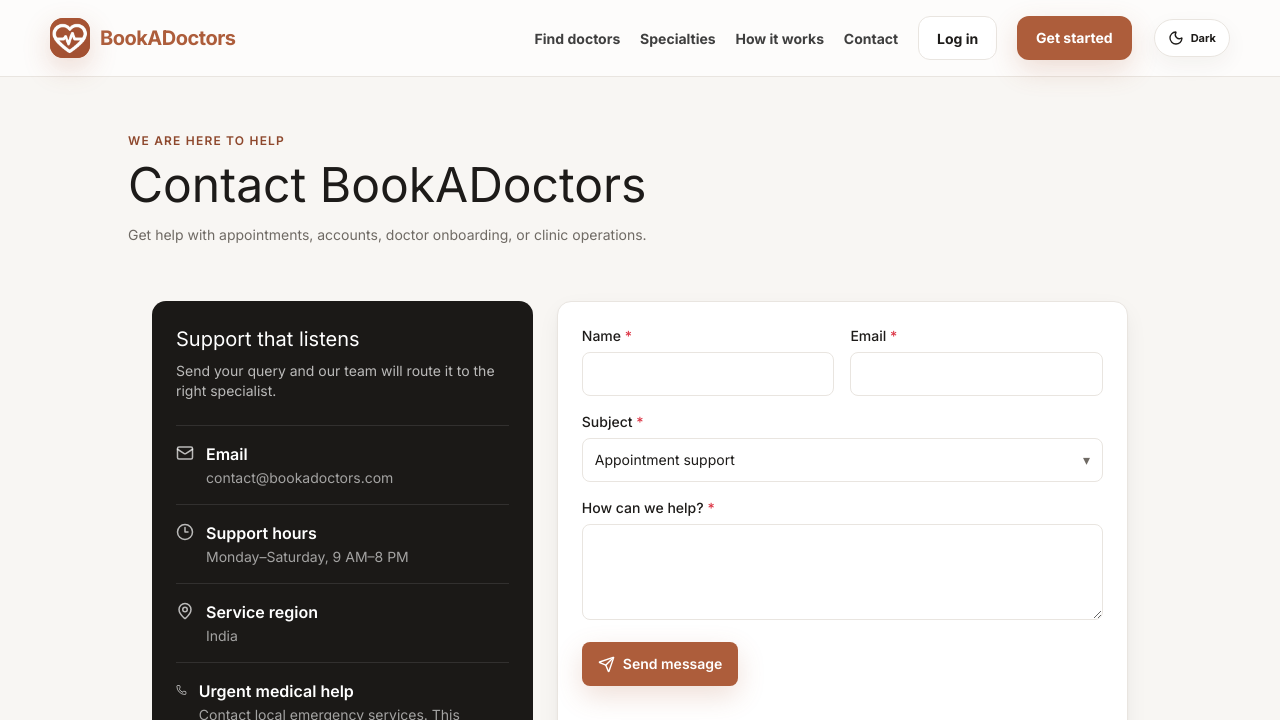
Test: PublicContent › shows the real error message when the contact form submission fails
Type "Rahul V" into the field labelled "Name *" at (708, 374), box [582, 352, 834, 396]
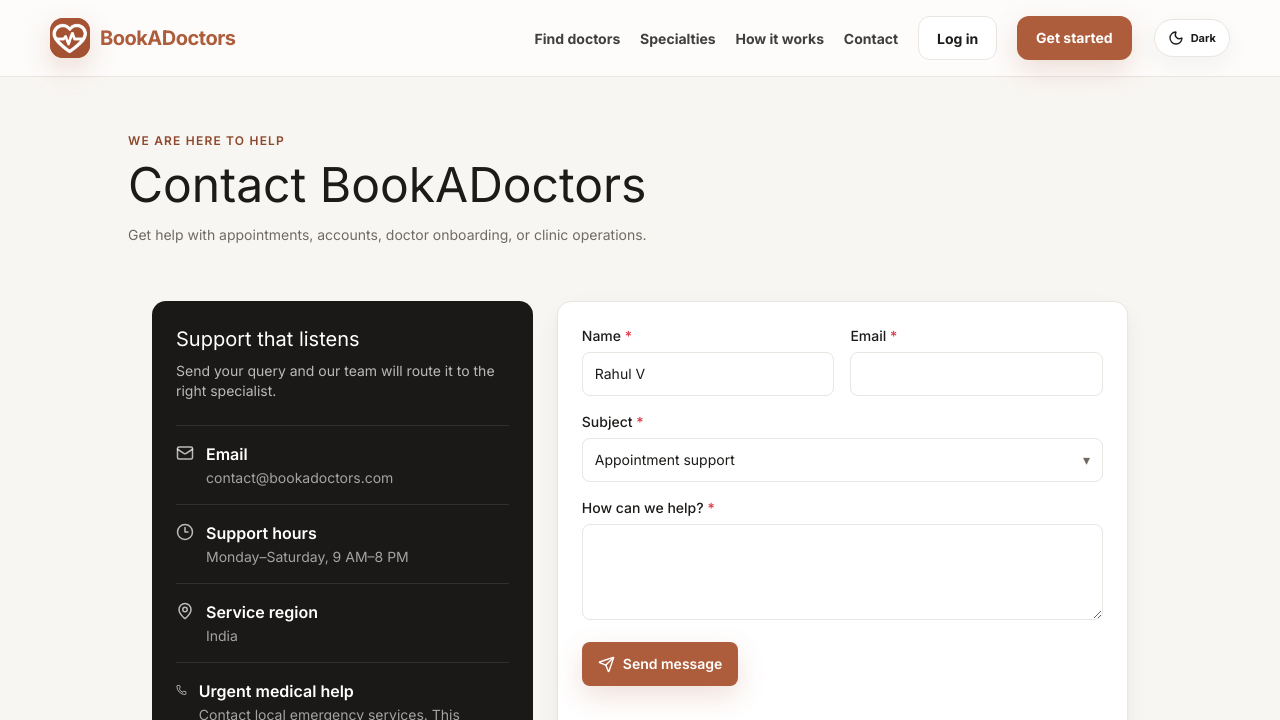
Type "rahul@example.com" into the field labelled "Email *" at (977, 374), box [850, 352, 1103, 396]
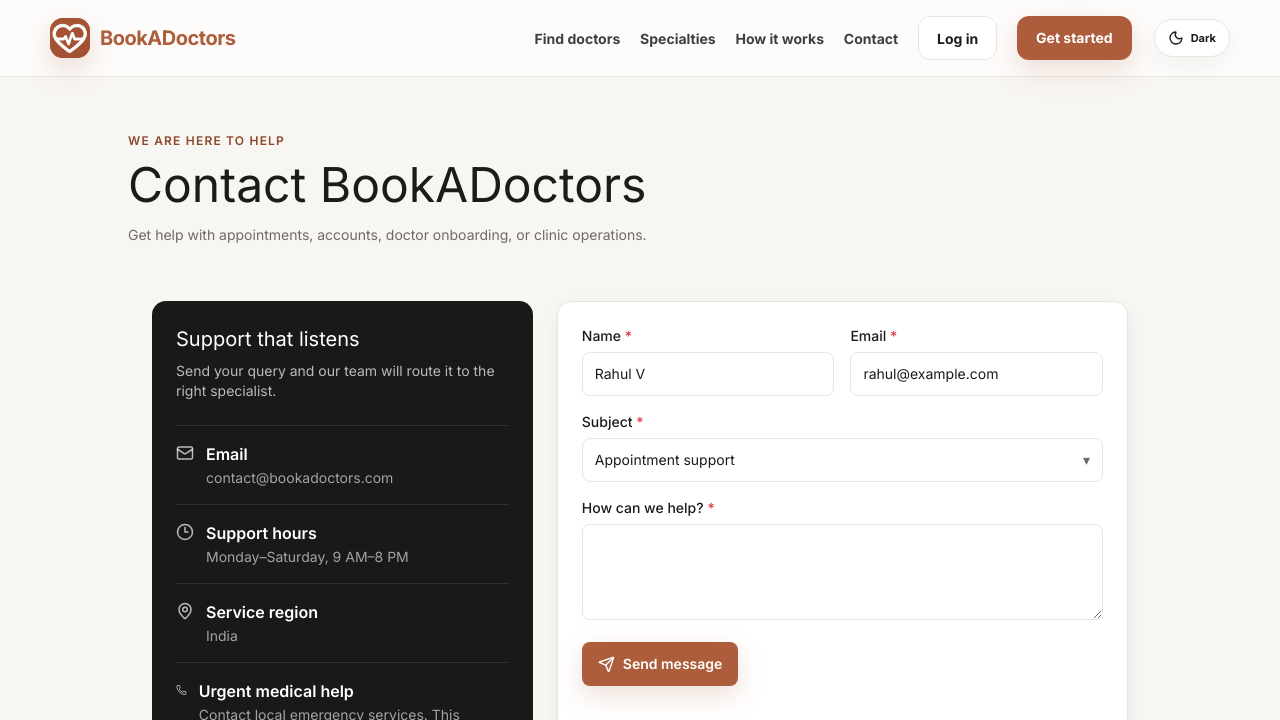
Type "Hello" into the text box labelled "How can we help? *" at (842, 572), box [582, 524, 1103, 620]
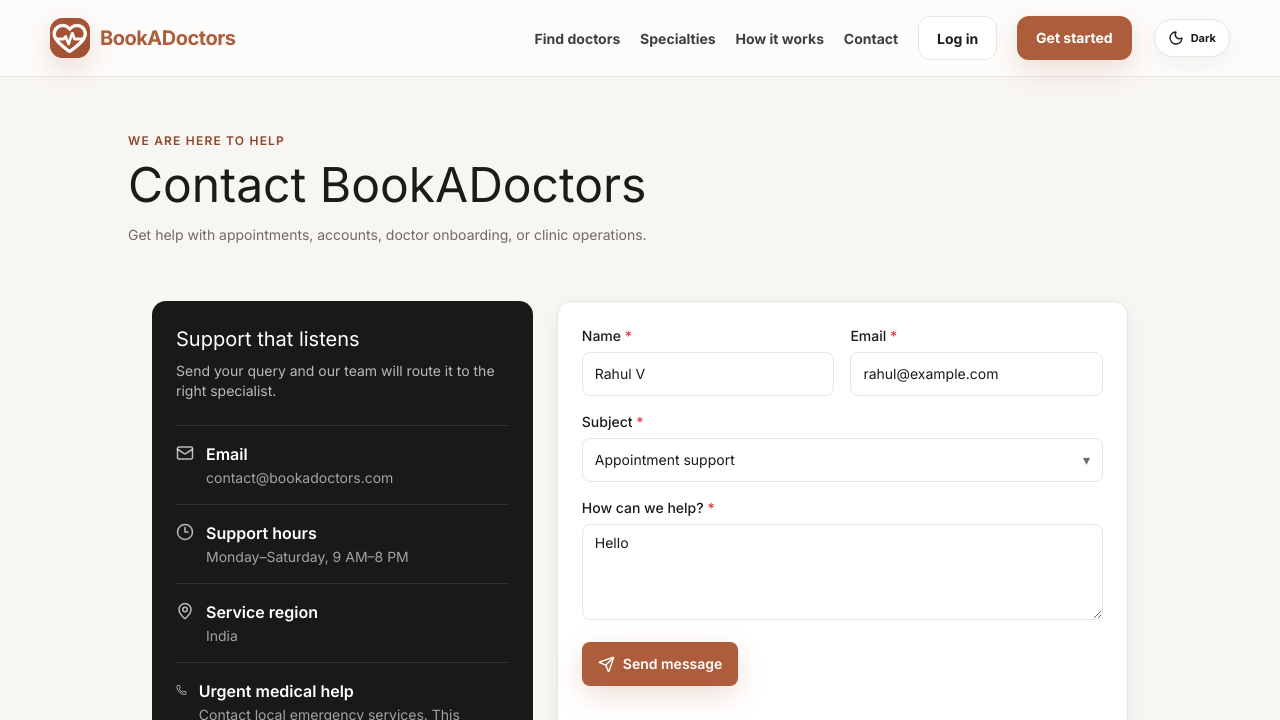
Click the button "Send message" at (660, 664), box [582, 642, 738, 686]
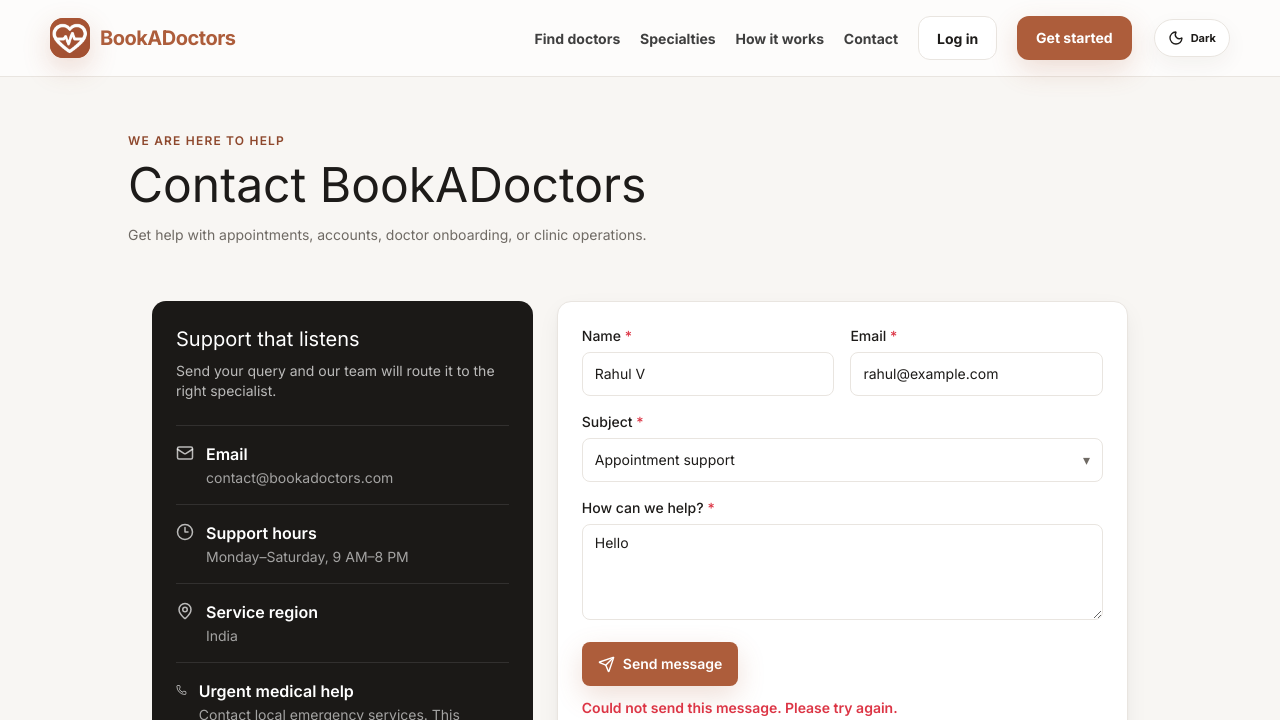
expect the message reads "Could not send this message. Please try again.": met, box [582, 699, 898, 716]
